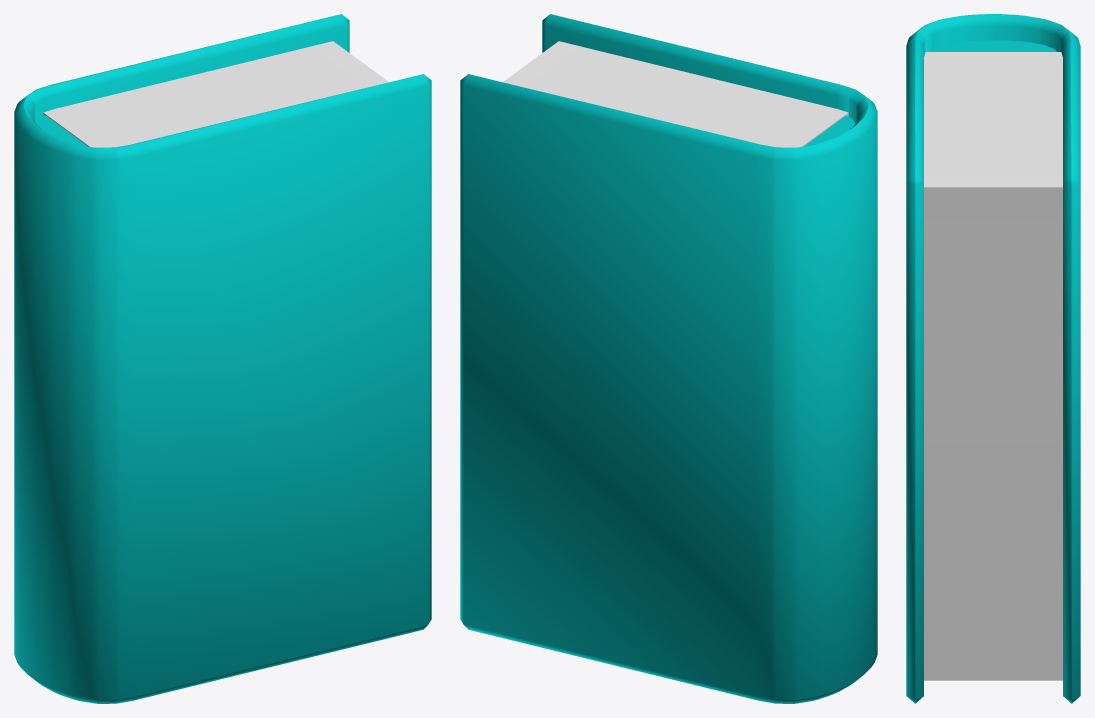
Rendered from book-blue.fbx.
3 renders of one model, left to right at view 1: azimuth 30°, elevation 25°; view 2: azimuth 150°, elevation 25°; view 3: azimuth 270°, elevation 25°, orthographic. The views are drawn at different scales.
Parts seen in each view (by area): view 1: Book.001; view 2: Book.001; view 3: Book.001.
Part boxes in pixels (x1,y1,x2,y2): Book.001: [14, 14, 431, 703]; Book.001: [460, 14, 877, 703]; Book.001: [906, 14, 1080, 703].
Size of the model in its own units: 82.35 by 122 by 36.22.
1 material, 1 textured.
